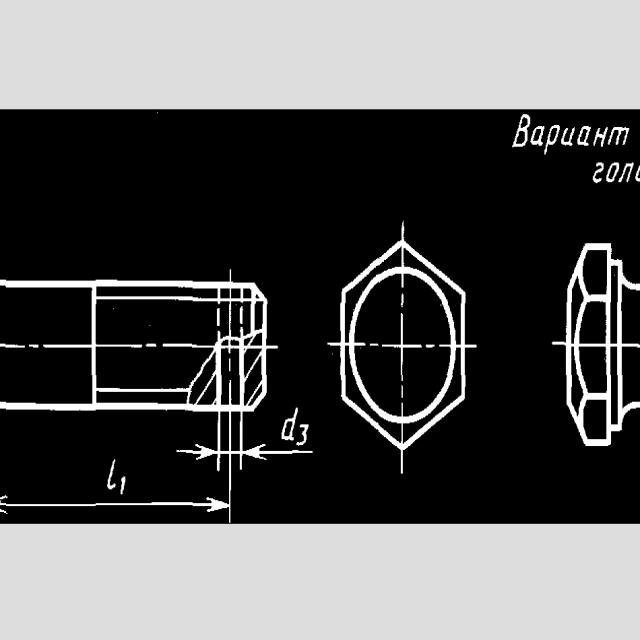marking_line: (0, 415, 238, 526), (236, 413, 314, 469), (173, 412, 222, 472)
numeric: (296, 423, 310, 446), (119, 473, 127, 495)
